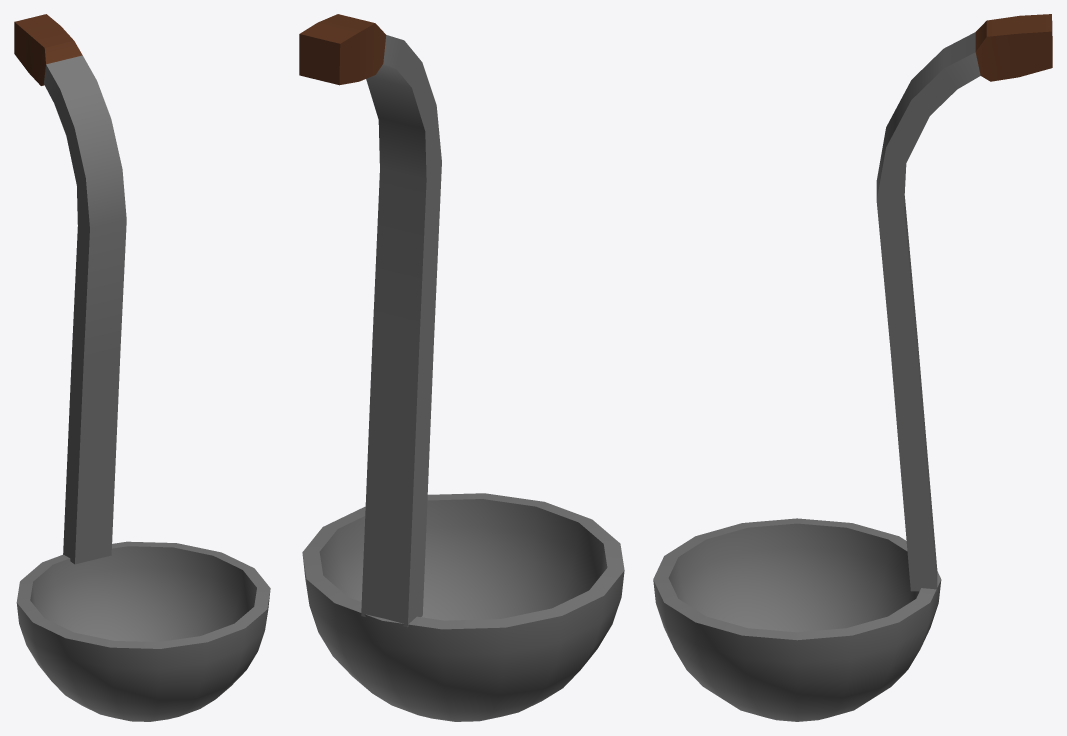
File: scoop.fbx
3 renders of one model, left to right at view 1: azimuth 30°, elevation 25°; view 2: azimuth 150°, elevation 25°; view 3: azimuth 270°, elevation 25°, orthographic. The views are drawn at different scales.
Parts seen in each view (by area): view 1: Sphere.002; view 2: Sphere.002; view 3: Sphere.002.
Boxes of the visible parts, box(x1,y1,x2,y2) form: Sphere.002: box(14, 14, 270, 721); Sphere.002: box(299, 14, 624, 721); Sphere.002: box(653, 14, 1052, 721).
Size of the model in its own units: 34.81 by 91.4 by 48.27.
